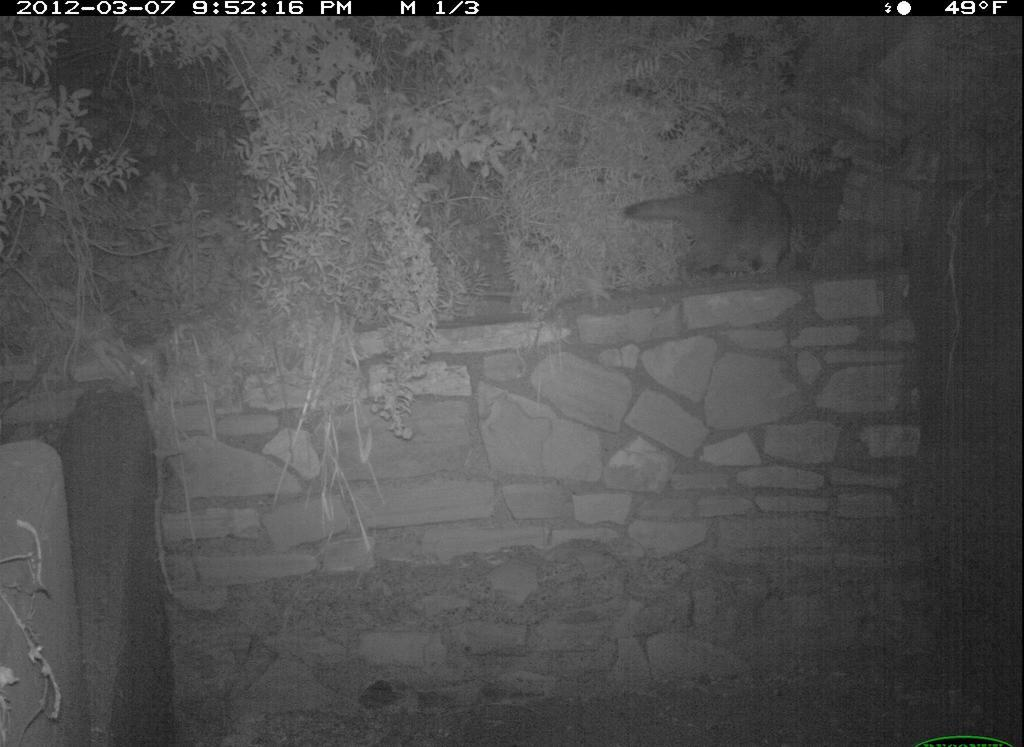raccoon: (614, 169, 829, 292)
